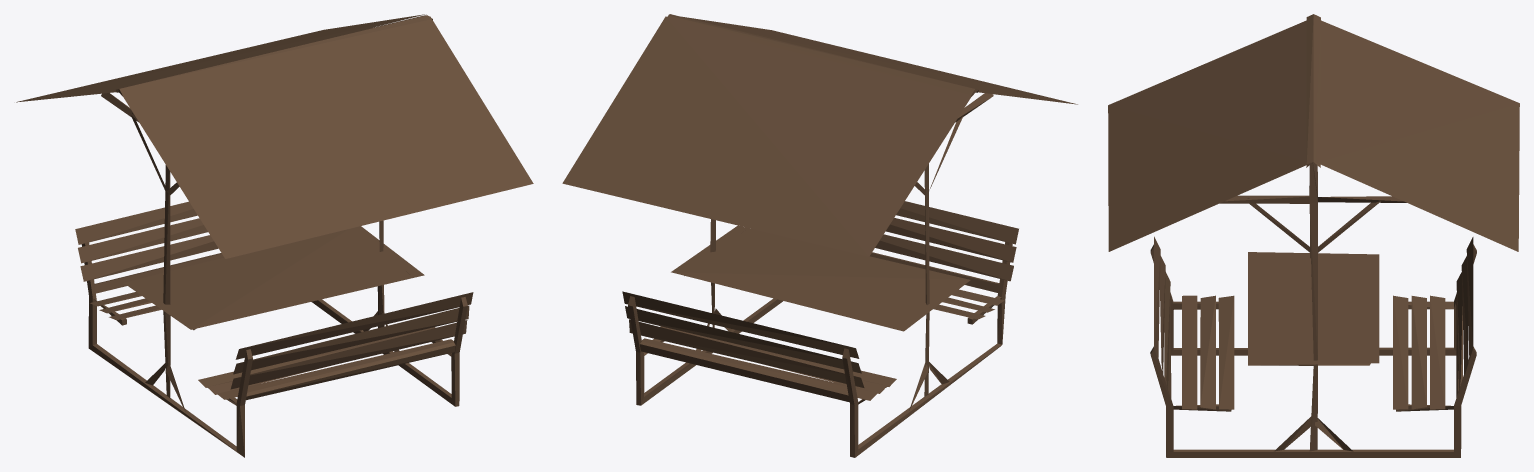
Rendered from gazebo.lod2.glb.
3 renders of one model, left to right at view 1: azimuth 30°, elevation 25°; view 2: azimuth 150°, elevation 25°; view 3: azimuth 270°, elevation 25°, orthographic. The views are drawn at different scales.
Visible parts, largest first — view 1: Object_4; view 2: Object_4; view 3: Object_4.
Boxes of the visible parts, <box> form: Object_4: <box>16,14,533,457</box>; Object_4: <box>562,14,1077,457</box>; Object_4: <box>1108,14,1519,457</box>.
Bounding box in the file's own units: 3.58 × 3.6 × 4.22.
